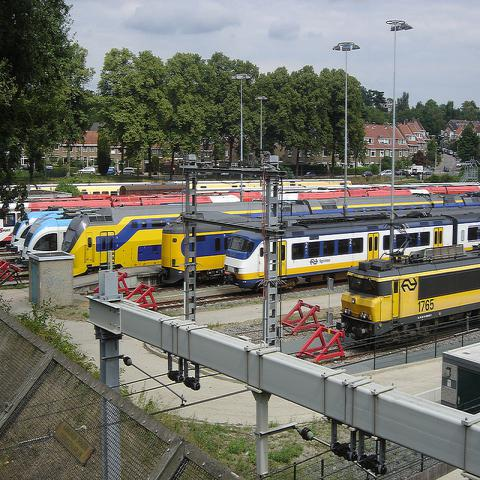car: (78, 165, 97, 175), (120, 168, 134, 175), (379, 170, 392, 177), (423, 168, 433, 175), (362, 171, 373, 177), (443, 165, 450, 172), (448, 150, 453, 155), (456, 161, 460, 166)
